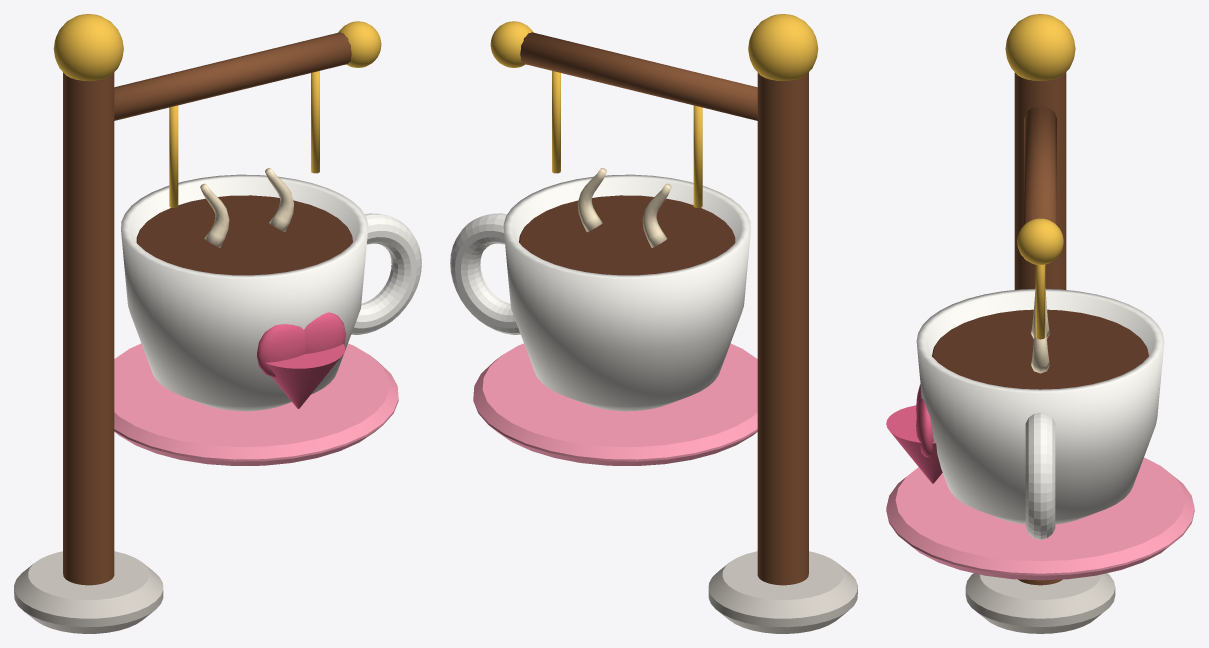
The model's file is cup_sign.fbx.
The picture shows the model from 3 angles, left to right: view 1: azimuth 30°, elevation 25°; view 2: azimuth 150°, elevation 25°; view 3: azimuth 270°, elevation 25°; orthographic projection.
Visible parts, largest first — view 1: cup_sign_WoodDark, cup_sign_White, cup_sign_Pink, cup_sign_Coffee, cup_sign_Stone, cup_sign_Gold, cup_sign_PinkDark, cup_sign_Cream; view 2: cup_sign_White, cup_sign_WoodDark, cup_sign_Pink, cup_sign_Coffee, cup_sign_Stone, cup_sign_Gold, cup_sign_Cream; view 3: cup_sign_White, cup_sign_Pink, cup_sign_Coffee, cup_sign_WoodDark, cup_sign_Stone, cup_sign_Gold, cup_sign_PinkDark, cup_sign_Cream.
Part boxes in pixels (left/top/right/bottom): cup_sign_WoodDark: left=63, top=32, right=351, bottom=585; cup_sign_White: left=121, top=174, right=421, bottom=411; cup_sign_Pink: left=114, top=343, right=398, bottom=465; cup_sign_Coffee: left=136, top=195, right=352, bottom=275; cup_sign_Stone: left=14, top=551, right=163, bottom=633; cup_sign_Gold: left=53, top=14, right=381, bottom=207; cup_sign_PinkDark: left=257, top=312, right=345, bottom=408; cup_sign_Cream: left=200, top=168, right=293, bottom=247; cup_sign_White: left=450, top=174, right=750, bottom=411; cup_sign_WoodDark: left=520, top=32, right=808, bottom=585; cup_sign_Pink: left=473, top=343, right=757, bottom=465; cup_sign_Coffee: left=519, top=195, right=735, bottom=275; cup_sign_Stone: left=708, top=551, right=857, bottom=633; cup_sign_Gold: left=490, top=14, right=818, bottom=207; cup_sign_Cream: left=577, top=168, right=671, bottom=247; cup_sign_White: left=916, top=289, right=1164, bottom=539; cup_sign_Pink: left=886, top=457, right=1194, bottom=580; cup_sign_Coffee: left=932, top=309, right=1148, bottom=389; cup_sign_WoodDark: left=1014, top=72, right=1066, bottom=585; cup_sign_Stone: left=965, top=573, right=1115, bottom=633; cup_sign_Gold: left=1005, top=14, right=1075, bottom=339; cup_sign_PinkDark: left=886, top=384, right=942, bottom=483; cup_sign_Cream: left=1031, top=287, right=1049, bottom=373.
Bounding box in the file's own units: 19.55 × 27.9 × 13.2.
